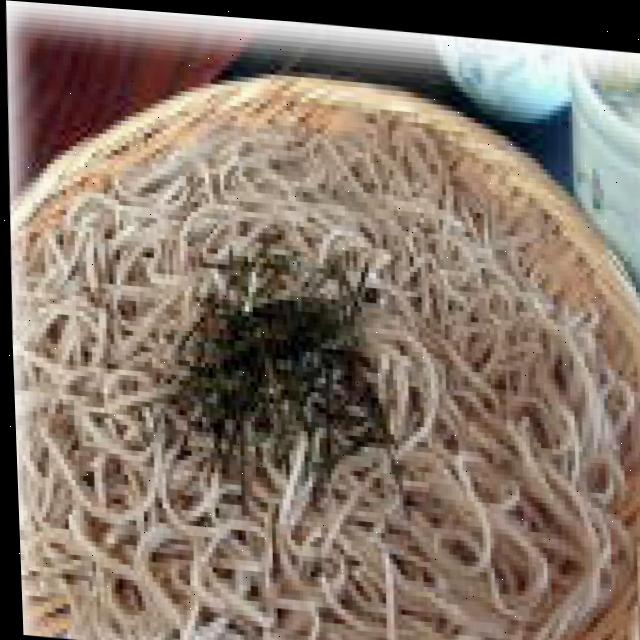面条主食: (3, 69, 640, 640)
